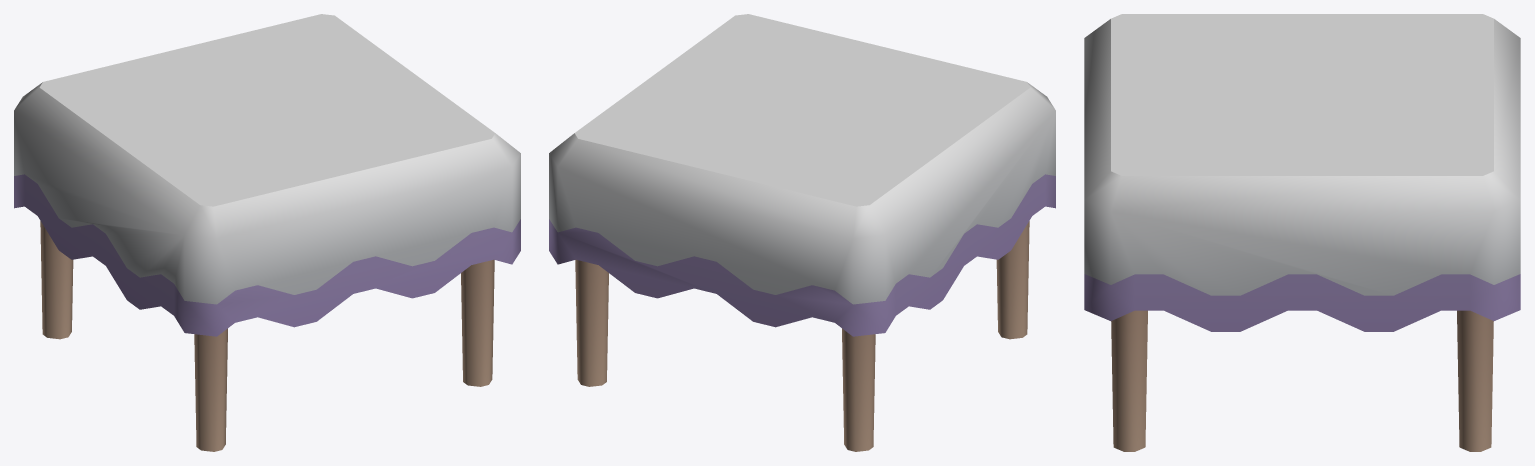
File: table-classic-wood-square-cloth.glb
The picture shows the model from 3 angles, left to right: view 1: azimuth 30°, elevation 25°; view 2: azimuth 150°, elevation 25°; view 3: azimuth 270°, elevation 25°; orthographic projection. The views are drawn at different scales.
Parts seen in each view (by area): view 1: table-classic-wood-square-cloth; view 2: table-classic-wood-square-cloth; view 3: table-classic-wood-square-cloth.
Part boxes in pixels (left/top/right/bottom): table-classic-wood-square-cloth: left=14, top=14, right=520, bottom=451; table-classic-wood-square-cloth: left=549, top=14, right=1055, bottom=451; table-classic-wood-square-cloth: left=1084, top=14, right=1520, bottom=451.
Size of the model in its own units: 0.82 by 0.5746 by 0.82.
